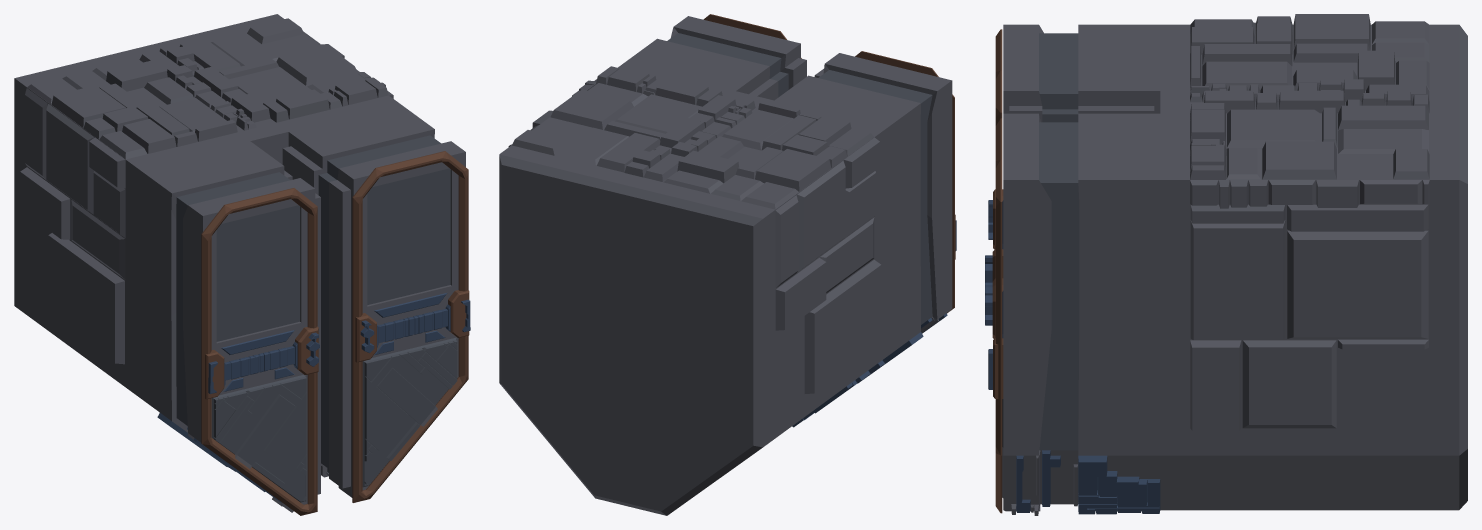
File: 大门第三层-望台.fbx
3 renders of one model, left to right at view 1: azimuth 30°, elevation 25°; view 2: azimuth 150°, elevation 25°; view 3: azimuth 270°, elevation 25°, orthographic. The views are drawn at different scales.
Visible parts, largest first — view 1: 大门第三层-望台; view 2: 大门第三层-望台; view 3: 大门第三层-望台.
Part boxes in pixels (<box>): 大门第三层-望台: <box>14,14,470,515</box>; 大门第三层-望台: <box>499,14,956,515</box>; 大门第三层-望台: <box>985,14,1467,515</box>.
Bounding box in the file's own units: 2.21 × 2.5 × 2.71.
